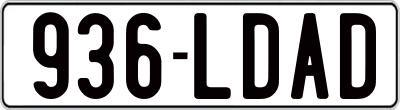3: (76, 13, 118, 104)
6: (124, 11, 160, 99)
9: (30, 12, 72, 100)
A: (291, 13, 331, 103)
D: (337, 11, 375, 101), (243, 11, 282, 97)
L: (192, 11, 231, 100)
